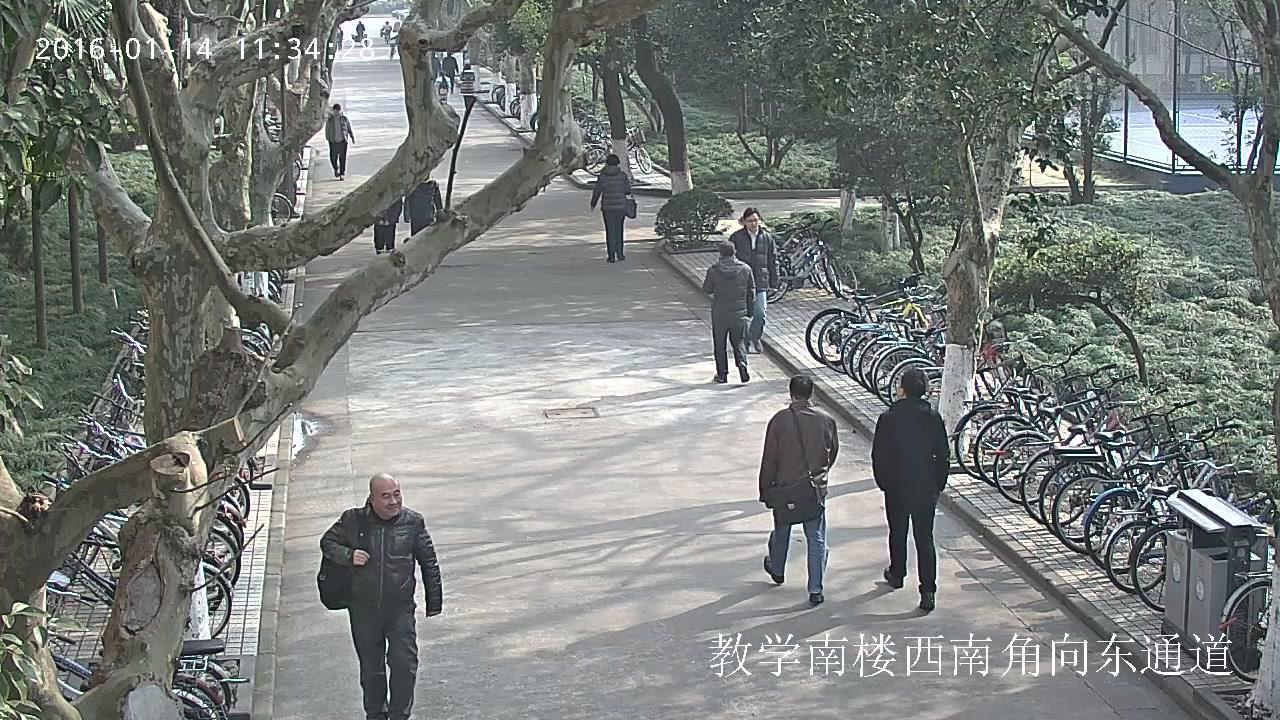person: (316, 471, 443, 720), (869, 367, 950, 610), (758, 373, 839, 603), (727, 207, 781, 352), (702, 240, 756, 384), (588, 153, 637, 263), (402, 171, 443, 239), (325, 104, 354, 182), (372, 197, 403, 258), (459, 64, 476, 111), (441, 50, 458, 94), (434, 69, 451, 108), (350, 20, 367, 46), (431, 52, 441, 81), (380, 20, 391, 43), (355, 20, 365, 40), (382, 20, 391, 39)
